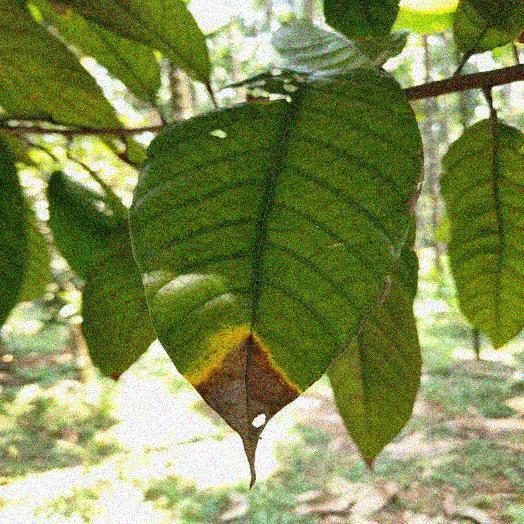Potassium: (131, 68, 421, 451)
